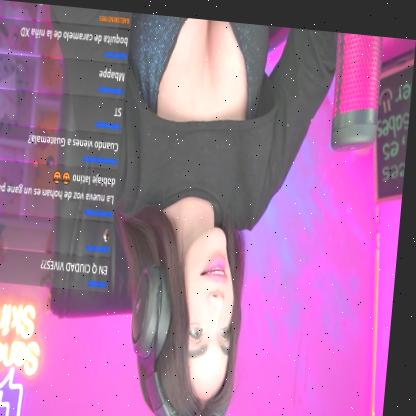streamer: (20, 4, 340, 416)
